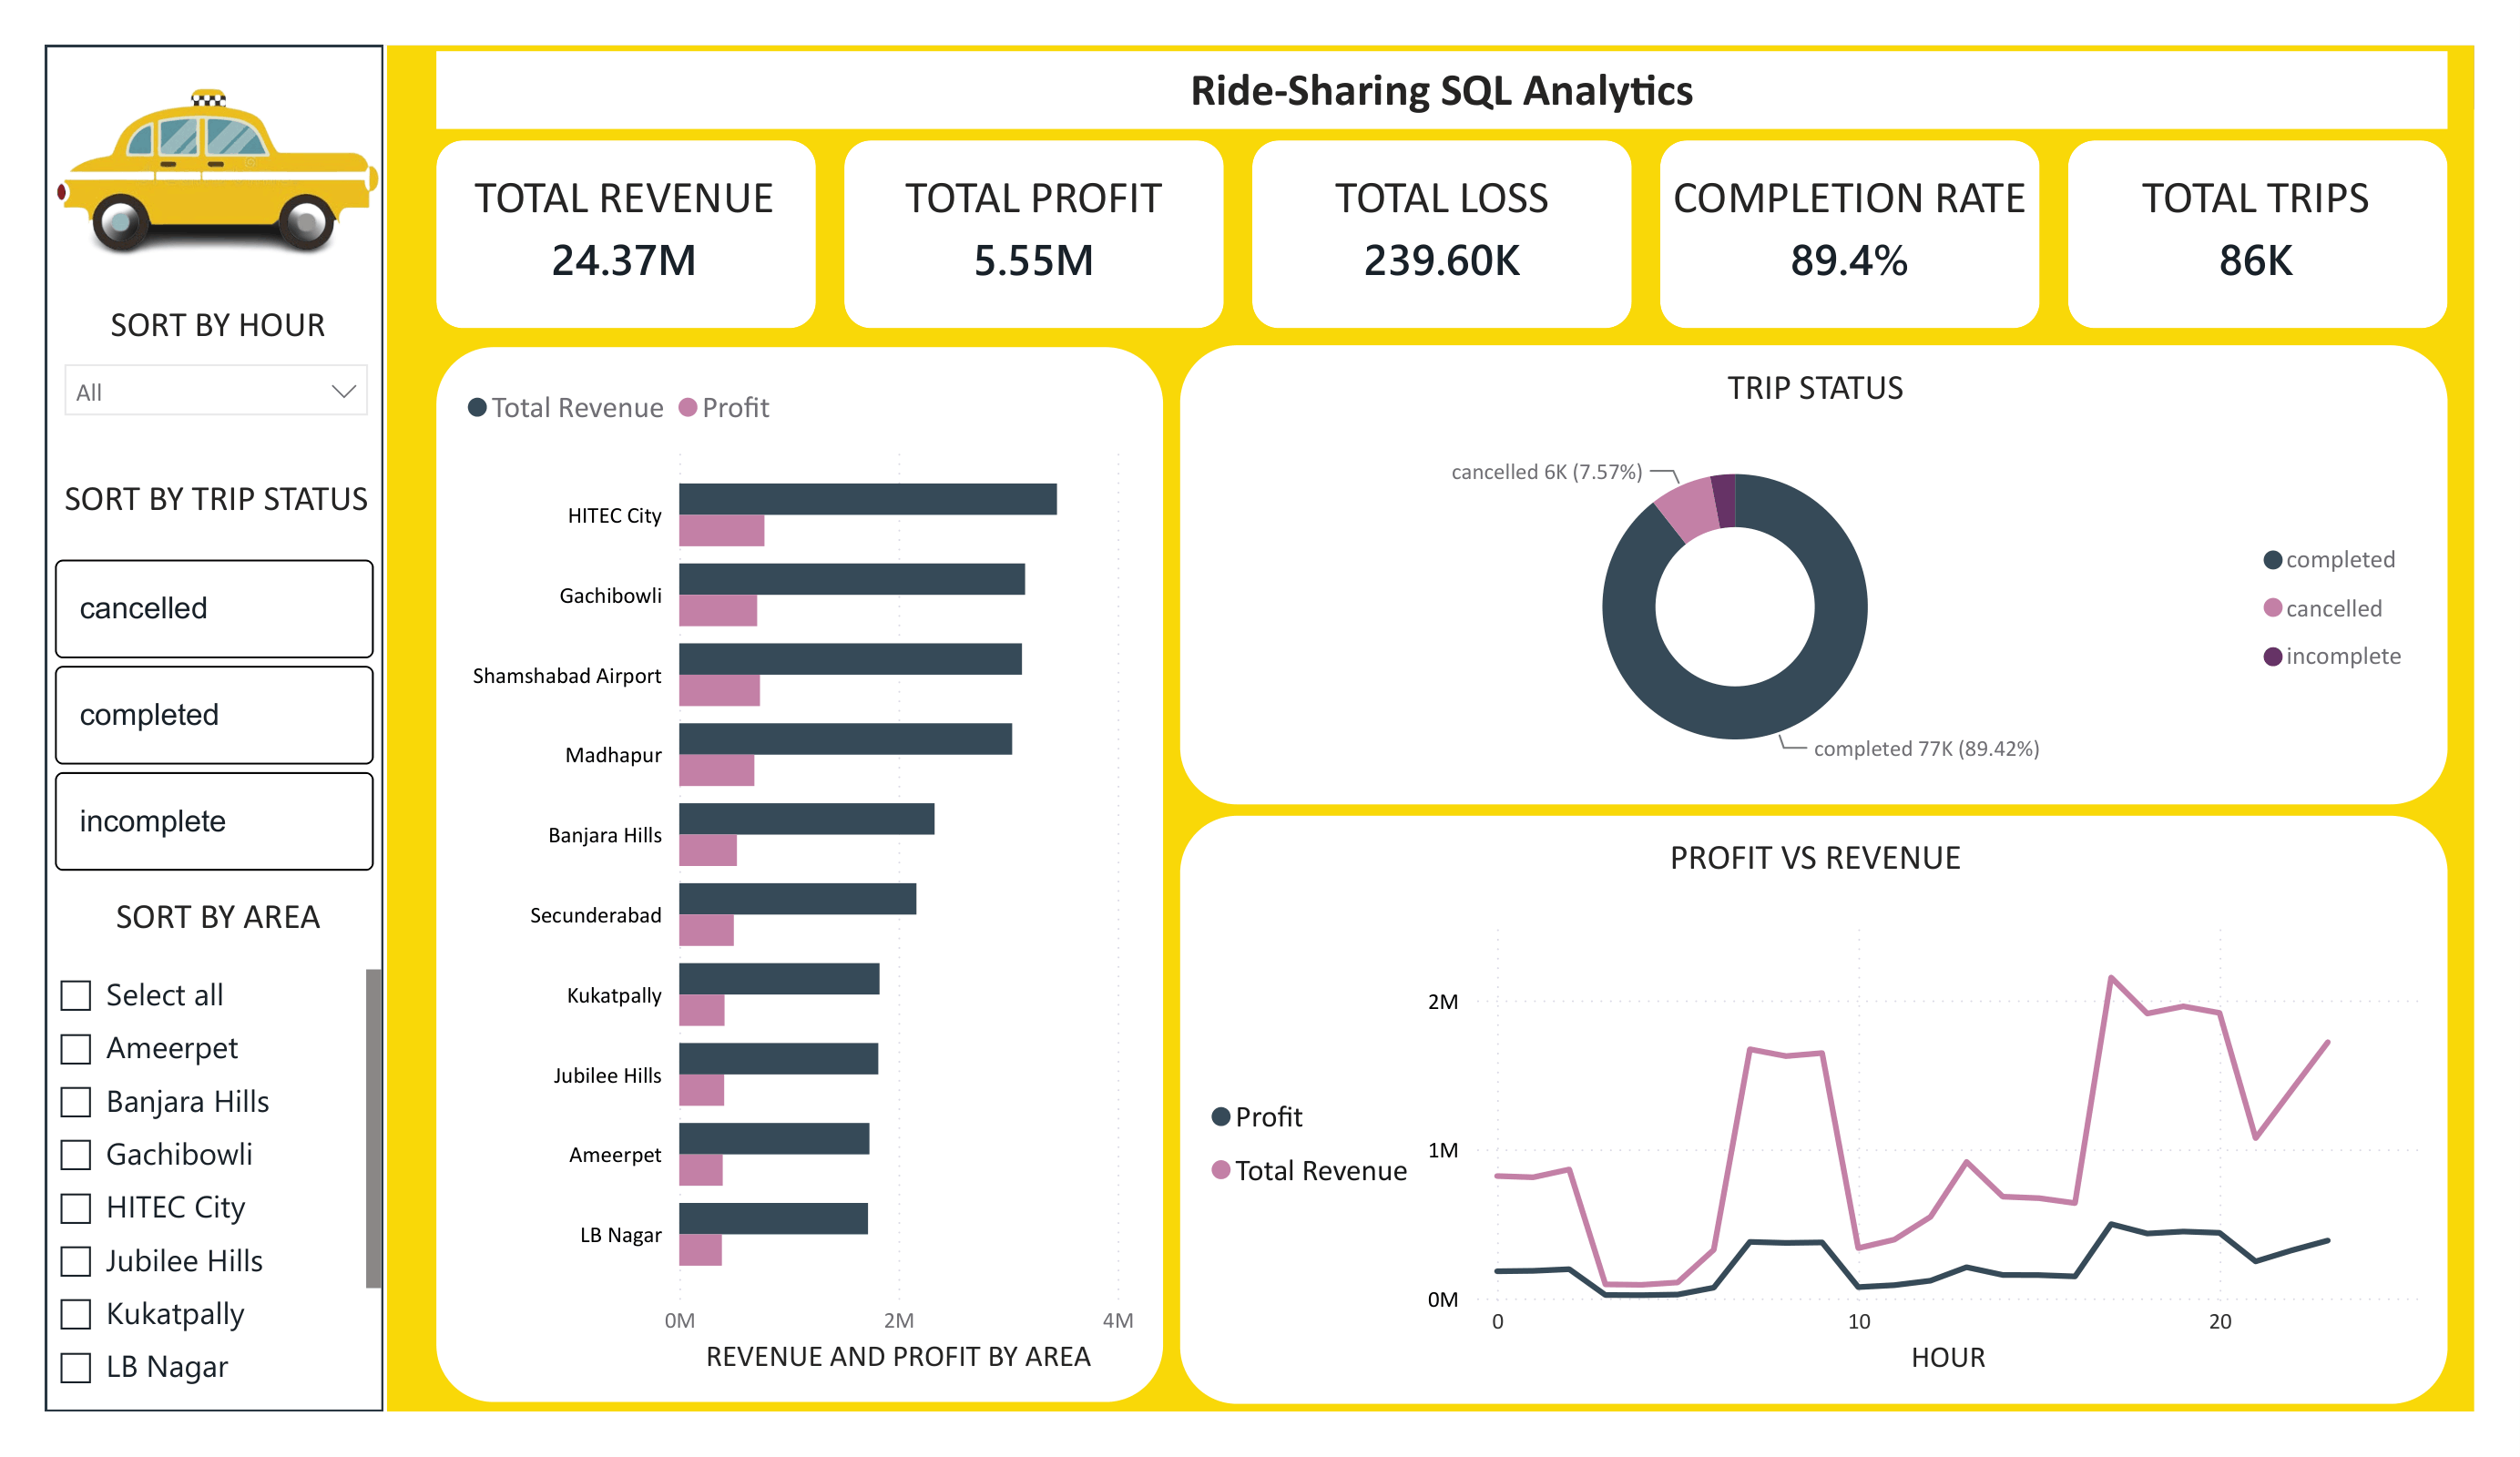

The dashboard page shown, as its layout file describes it:
{"tool":"powerbi","page":{"name":"Page 1","canvas":[1280,720],"ordinal":0},"visuals":[{"type":"shape","box":[0,0,178,720],"z":0},{"type":"shape","box":[180,0,1100,720],"z":1000},{"type":"clusteredBarChart","fields":{"Y":["trips.Total Revenue","trips.Profit"],"Category":["locations.area_name"]},"box":[206,159,383,556],"z":2000},{"type":"donutChart","title":"TRIP STATUS","fields":{"Y":["trips.Trips(Count)"],"Category":["trips.trip_status"]},"box":[598,158,668,242],"z":3000},{"type":"lineChart","title":"PROFIT VS REVENUE ","fields":{"Category":["trips.Hour"],"Y":["trips.Profit","trips.Total Revenue"]},"box":[598,406,668,310],"z":4000},{"type":"listSlicer","fields":{"Values":["locations.area_name"]},"box":[2,482,180,238],"z":5000},{"type":"advancedSlicerVisual","title":"Trip Status","fields":{"Values":["trips.trip_status"]},"box":[0,266,178,176],"z":6000},{"type":"slicer","fields":{"Values":["trips.Hour"]},"box":[0,158,180,64],"z":7000},{"type":"shape","box":[205.6,50,200,99],"z":8000},{"type":"shape","box":[420.7,50,200,99],"z":9000},{"type":"shape","box":[1066,50,200,99],"z":10000},{"type":"shape","box":[850.9,50,200,99],"z":11000},{"type":"shape","box":[635.8,50,200,99],"z":12000},{"type":"cardVisual","title":"TOTAL PROFIT","fields":{"Data":["trips.Profit"]},"box":[421.2,50,200,99],"z":13000},{"type":"cardVisual","title":"TOTAL TRIPS","fields":{"Data":["trips.Trips(Count)"]},"box":[1065,50,200,99],"z":14000},{"type":"cardVisual","title":"COMPLETION RATE","fields":{"Data":["trips.Completion_Rate"]},"box":[851.2,50,200,99],"z":15000},{"type":"cardVisual","title":"TOTAL LOSS","fields":{"Data":["trips.Loss Amount"]},"box":[636.2,50,200,99],"z":16000},{"type":"cardVisual","title":"TOTAL REVENUE","fields":{"Data":["trips.Total Revenue"]},"box":[205,50,200,99],"z":17000},{"type":"textbox","box":[2,130,178,42],"z":18000},{"type":"textbox","box":[2,222,176,44],"z":19000},{"type":"textbox","box":[2,442,178,42],"z":20000},{"type":"textbox","box":[206,3,1060,41],"z":21000},{"type":"image","box":[0,0,180,130],"z":22000}]}

Visuals, with their boxes in screenshot pixels (x1, y1, x2, y2):
shape: bbox(39, 39, 372, 1388)
shape: bbox(376, 39, 2436, 1388)
clusteredBarChart - trips.Total Revenue x trips.Profit: bbox(425, 337, 1142, 1378)
"TRIP STATUS" donutChart: bbox(1159, 335, 2410, 789)
"PROFIT VS REVENUE " lineChart: bbox(1159, 800, 2410, 1381)
listSlicer - locations.area_name: bbox(43, 942, 380, 1388)
"Trip Status" advancedSlicerVisual: bbox(39, 537, 372, 867)
slicer - trips.Hour: bbox(39, 335, 376, 455)
shape: bbox(424, 133, 799, 319)
shape: bbox(827, 133, 1202, 319)
shape: bbox(2035, 133, 2410, 319)
shape: bbox(1633, 133, 2007, 319)
shape: bbox(1230, 133, 1605, 319)
"TOTAL PROFIT" cardVisual: bbox(828, 133, 1203, 319)
"TOTAL TRIPS" cardVisual: bbox(2034, 133, 2408, 319)
"COMPLETION RATE" cardVisual: bbox(1634, 133, 2008, 319)
"TOTAL LOSS" cardVisual: bbox(1230, 133, 1606, 319)
"TOTAL REVENUE" cardVisual: bbox(423, 133, 798, 319)
textbox: bbox(43, 283, 376, 362)
textbox: bbox(43, 455, 372, 537)
textbox: bbox(43, 867, 376, 945)
textbox: bbox(425, 45, 2410, 122)
image: bbox(39, 39, 376, 283)
